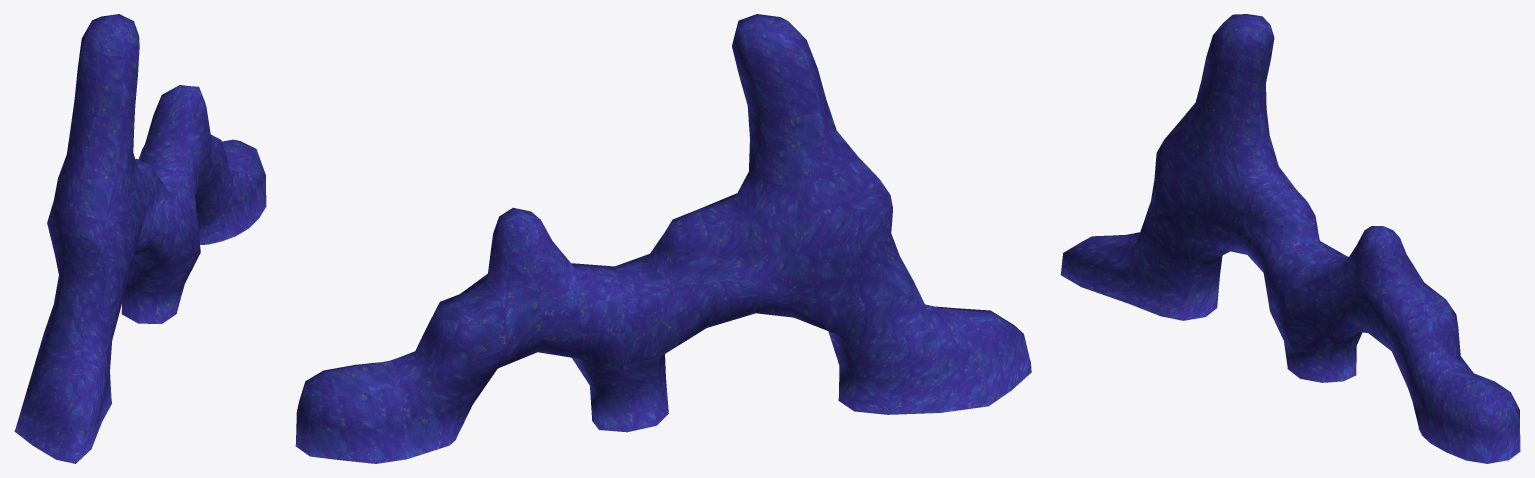
Rendered from object_65_lev3.glb.
The picture shows the model from 3 angles, left to right: view 1: azimuth 30°, elevation 25°; view 2: azimuth 150°, elevation 25°; view 3: azimuth 270°, elevation 25°; orthographic projection. The views are drawn at different scales.
Parts seen in each view (by area): view 1: object_65_lev3; view 2: object_65_lev3; view 3: object_65_lev3.
Boxes of the visible parts, left/top/right/bottom form: object_65_lev3: left=14, top=14, right=266, bottom=463; object_65_lev3: left=295, top=14, right=1031, bottom=463; object_65_lev3: left=1060, top=14, right=1520, bottom=463.
Size of the model in its own units: 31.92 by 24.39 by 31.65.
Materials: 1 (1 with a texture image).
